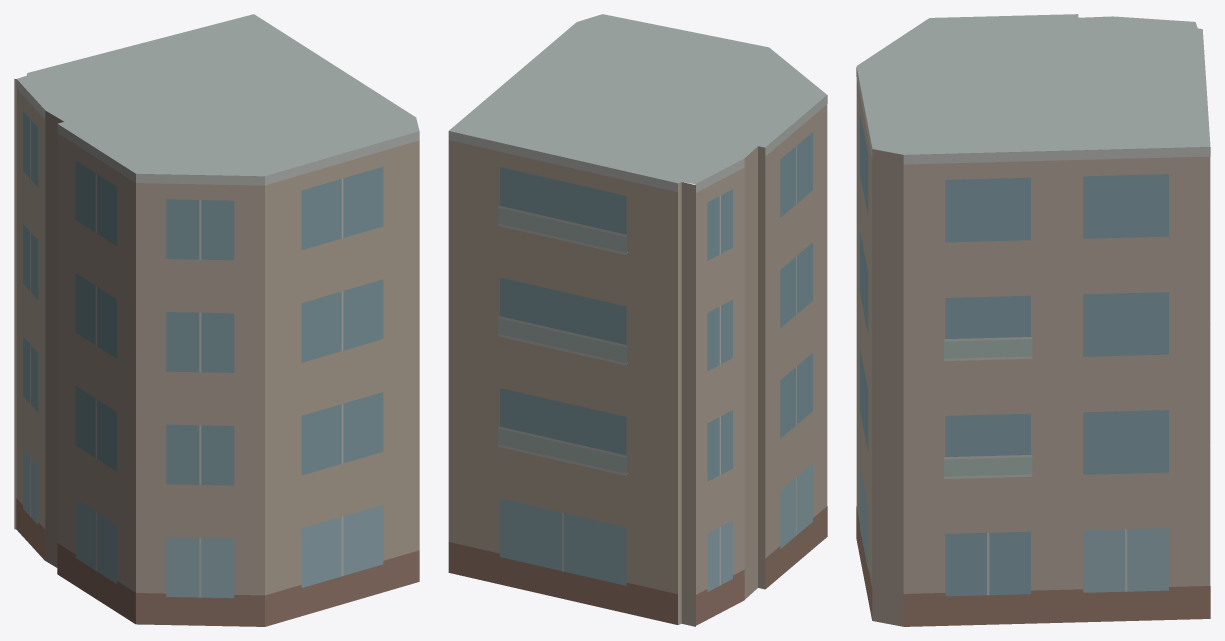
The model's file is survey-upis-32988651.glb.
The picture shows the model from 3 angles, left to right: view 1: azimuth 30°, elevation 25°; view 2: azimuth 150°, elevation 25°; view 3: azimuth 270°, elevation 25°; orthographic projection. The views are drawn at different scales.
Visible parts, largest first — view 1: survey-upis-32988651.tmp; view 2: survey-upis-32988651.tmp; view 3: survey-upis-32988651.tmp.
Part boxes in pixels (box(x1,y1,x2,y2)): survey-upis-32988651.tmp: box(14, 14, 419, 626); survey-upis-32988651.tmp: box(448, 14, 827, 626); survey-upis-32988651.tmp: box(856, 14, 1210, 626).
Size of the model in its own units: 7.63 by 11.9 by 8.1.
